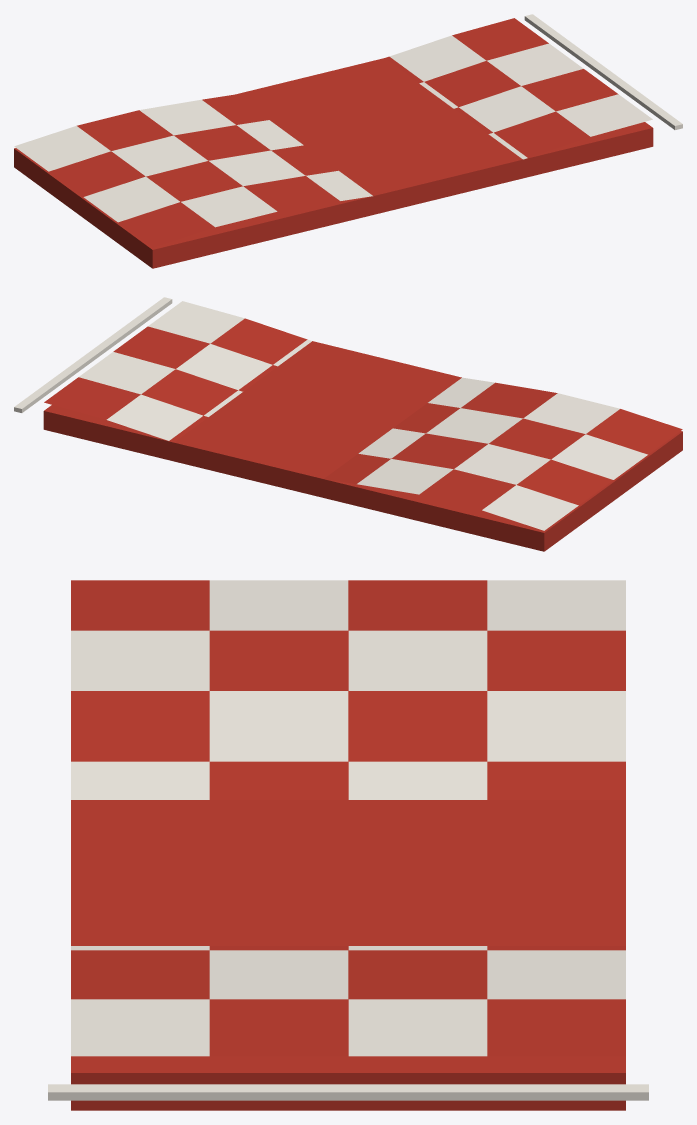
File: PRP_Krama.fbx
3 renders of one model, top to bottom at view 1: azimuth 30°, elevation 25°; view 2: azimuth 150°, elevation 25°; view 3: azimuth 270°, elevation 25°, orthographic. The views are drawn at different scales.
Visible parts, largest first — view 1: PRP_Krama; view 2: PRP_Krama; view 3: PRP_Krama.
Boxes of the visible parts, left/top/right/bottom form: PRP_Krama: left=14, top=14, right=682, bottom=268; PRP_Krama: left=14, top=297, right=682, bottom=551; PRP_Krama: left=48, top=580, right=648, bottom=1110.
Bounding box in the file's own units: 0.524 × 0.0259 × 0.26.
